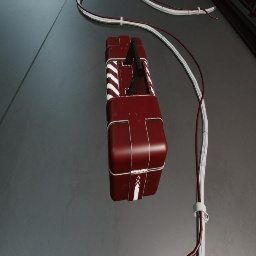FirstAidBox ,: (105, 36, 168, 202)
